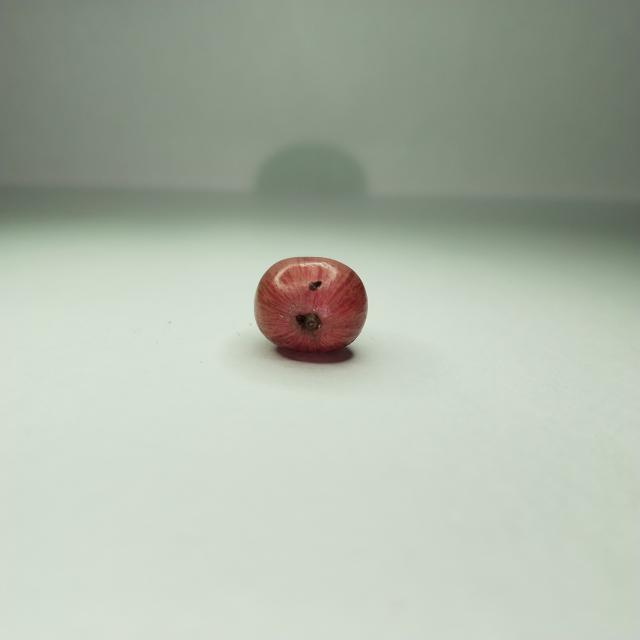Infectado: (256, 259, 368, 353)
